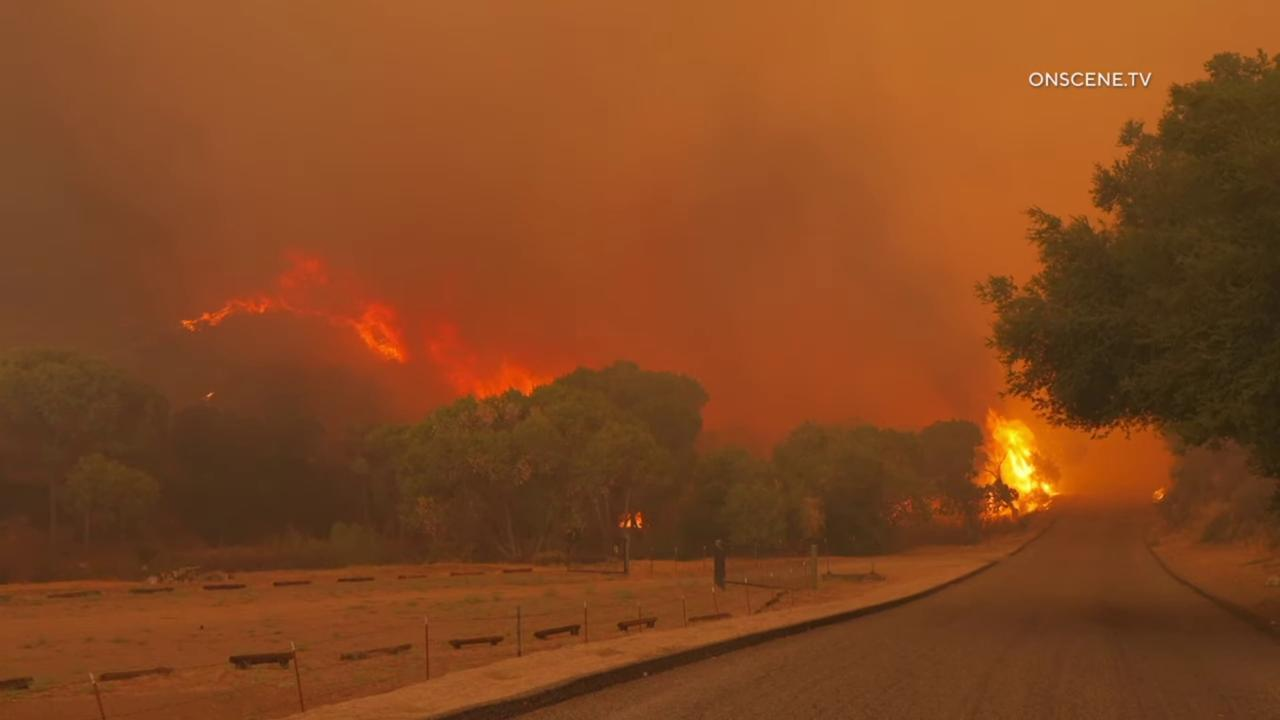fire: (178, 244, 559, 403), (956, 405, 1068, 525), (616, 509, 648, 530), (1151, 484, 1171, 506), (205, 391, 215, 398)
smoke: (0, 0, 1280, 545)
